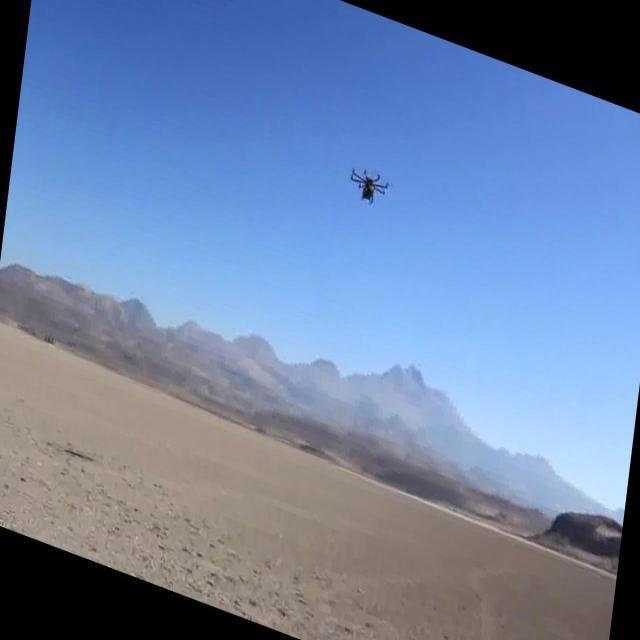drone: (344, 156, 394, 221)
